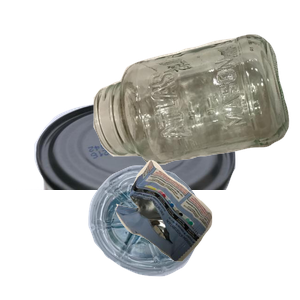glass: (91, 32, 300, 189)
metal: (16, 96, 244, 276)
plastic: (86, 163, 282, 300)
trash: (113, 157, 300, 300)
